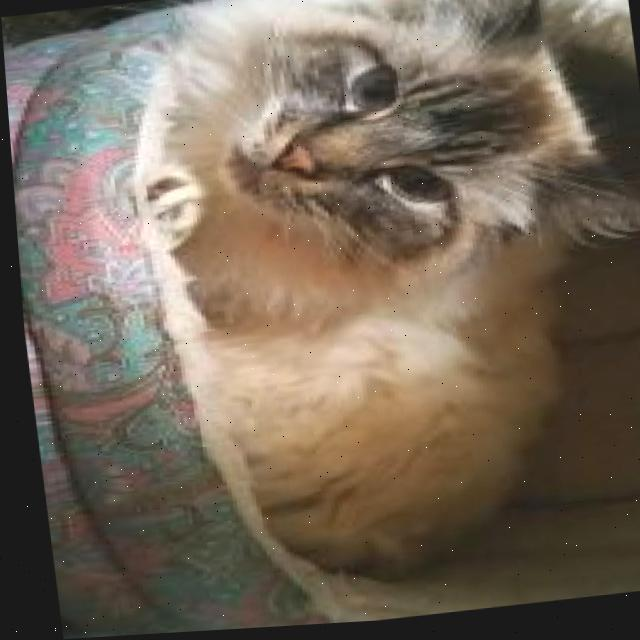Birman: (122, 0, 640, 615)
